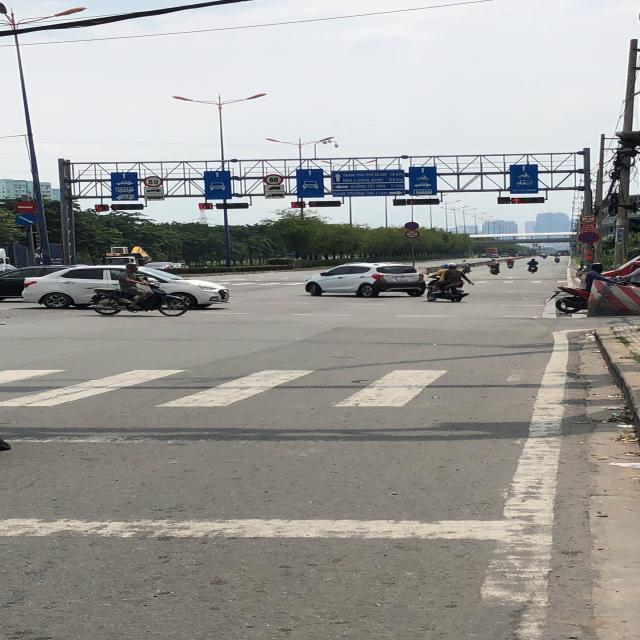Bien bao cam di nguoc chieu: (12, 197, 38, 214)
Bien bao huong phai di vong chuong ngai vat: (13, 214, 39, 228)
Bien bao toc do toi da cho phep: (262, 173, 286, 186), (140, 175, 163, 188)
